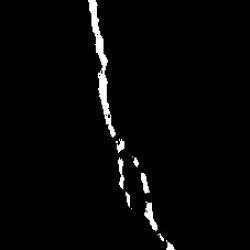crack: (87, 1, 115, 138), (119, 160, 132, 206), (146, 201, 157, 229), (157, 235, 174, 249), (140, 172, 151, 191), (117, 140, 127, 156), (135, 157, 140, 168)
